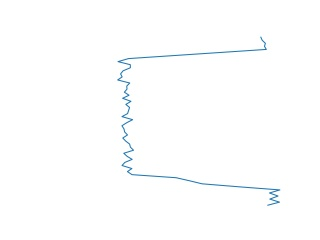distributaryChannelFill: (113, 37, 286, 205)
